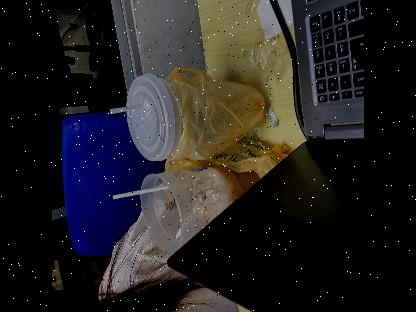Others: (136, 162, 262, 252), (167, 66, 266, 161), (161, 137, 290, 206), (121, 72, 182, 161), (235, 27, 288, 73), (251, 0, 294, 38), (173, 196, 207, 238), (112, 181, 176, 199), (109, 101, 147, 115), (264, 100, 282, 128)
